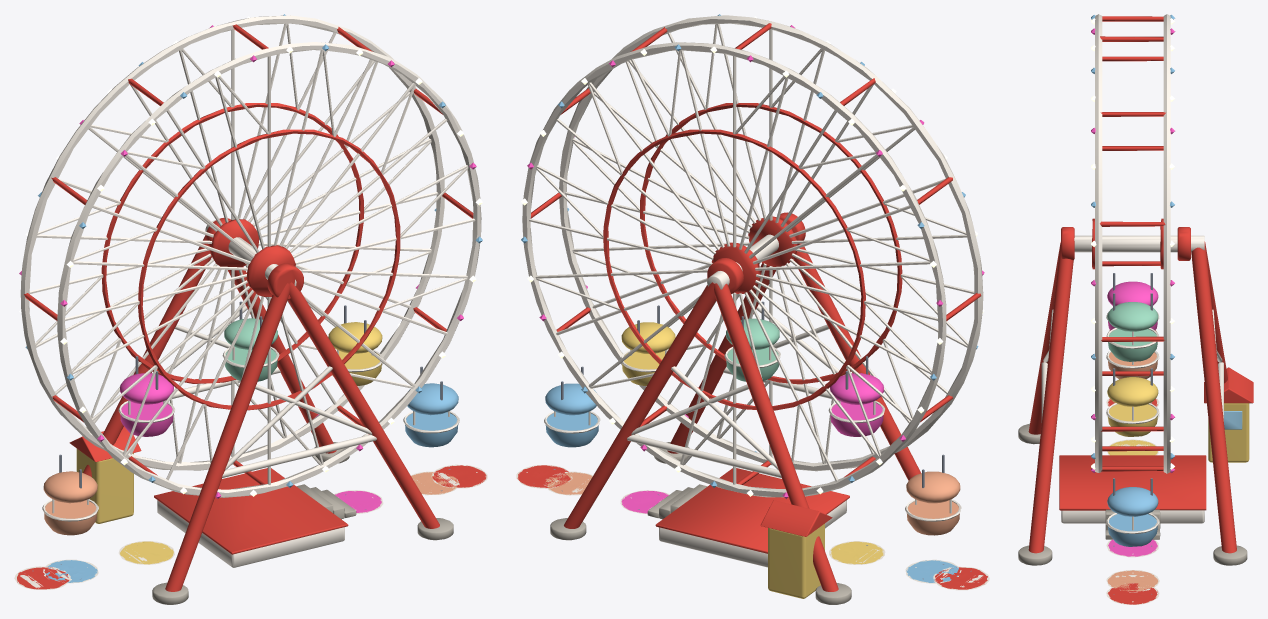
The model's file is ferris_wheel.glb.
3 renders of one model, left to right at view 1: azimuth 30°, elevation 25°; view 2: azimuth 150°, elevation 25°; view 3: azimuth 270°, elevation 25°, orthographic. The views are drawn at different scales.
Parts seen in each view (by area): view 1: wheel.007, ferris_wheel.003, gond5.003, gond1.003, gond4.003, gond2.003, gond0.003 (×2), gond3.003, gond8.003, gond7.003, gond10.003, gond11.003; view 2: wheel.007, ferris_wheel.003, gond5.003, gond1.003, gond4.003, gond2.003, gond0.003 (×2), gond3.003, gond8.003, gond7.003, gond11.003, gond10.003; view 3: ferris_wheel.003, wheel.007, gond1.003, gond2.003, gond3.003, gond4.003, gond11.003, gond0.003, gond5.003, gond10.003, gond8.003.
Part boxes in pixels (x1,y1,x2,y2): wheel.007: (19,14,482,498); ferris_wheel.003: (69,218,453,604); gond5.003: (42,454,98,535); gond1.003: (403,366,459,447); gond4.003: (118,356,175,436); gond2.003: (328,305,383,385); gond0.003 (×2): (14,464,487,589); gond3.003: (222,301,279,381); gond8.003: (118,541,174,564); gond7.003: (43,559,98,583); gond10.003: (334,490,383,513); gond11.003: (410,471,459,495); wheel.007: (521,14,984,498); ferris_wheel.003: (550,212,920,604); gond5.003: (905,454,961,535); gond1.003: (544,366,600,447); gond4.003: (828,356,884,436); gond2.003: (620,305,675,385); gond0.003 (×2): (516,465,989,590); gond3.003: (724,301,780,381); gond8.003: (829,541,885,564); gond7.003: (905,559,961,583); gond11.003: (545,471,592,495); gond10.003: (620,490,669,513); ferris_wheel.003: (1018,227,1253,565); wheel.007: (1091,14,1175,473); gond1.003: (1106,478,1159,546); gond2.003: (1106,368,1159,436); gond3.003: (1106,293,1158,361); gond4.003: (1106,273,1159,330); gond11.003: (1106,570,1159,592); gond0.003: (1106,583,1159,604); gond5.003: (1106,330,1159,379); gond10.003: (1106,539,1158,557); gond8.003: (1107,439,1158,455).
Bounding box in the file's own units: 14.75 × 14.92 × 6.87.
Materials: 1 (1 with a texture image).
